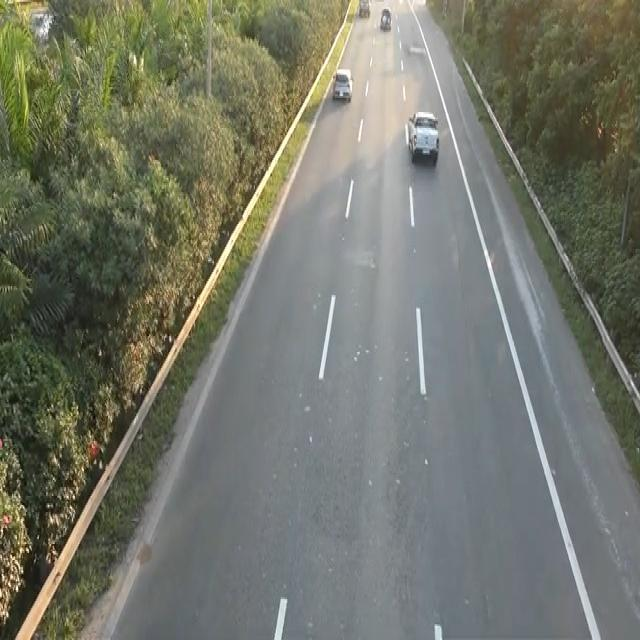bus: (331, 66, 353, 101)
car: (404, 105, 443, 171), (379, 7, 392, 30), (357, 0, 371, 18)
